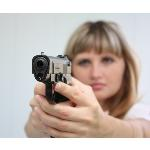Pistol: (32, 49, 80, 107)
